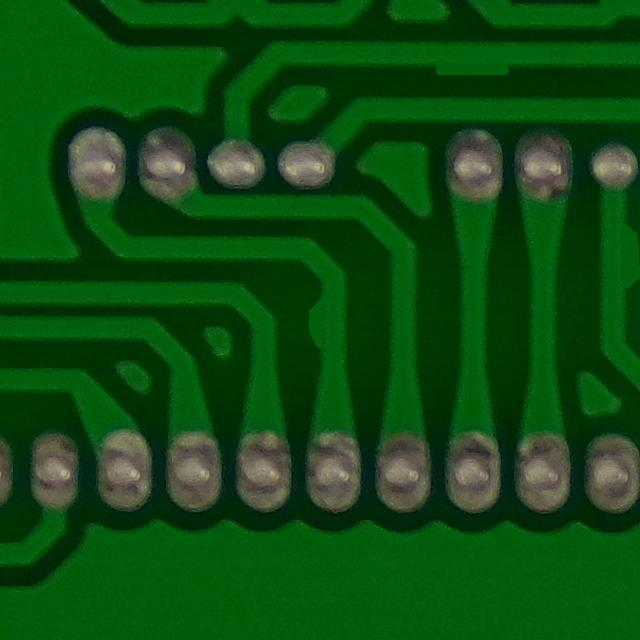spur: (292, 280, 348, 361)
